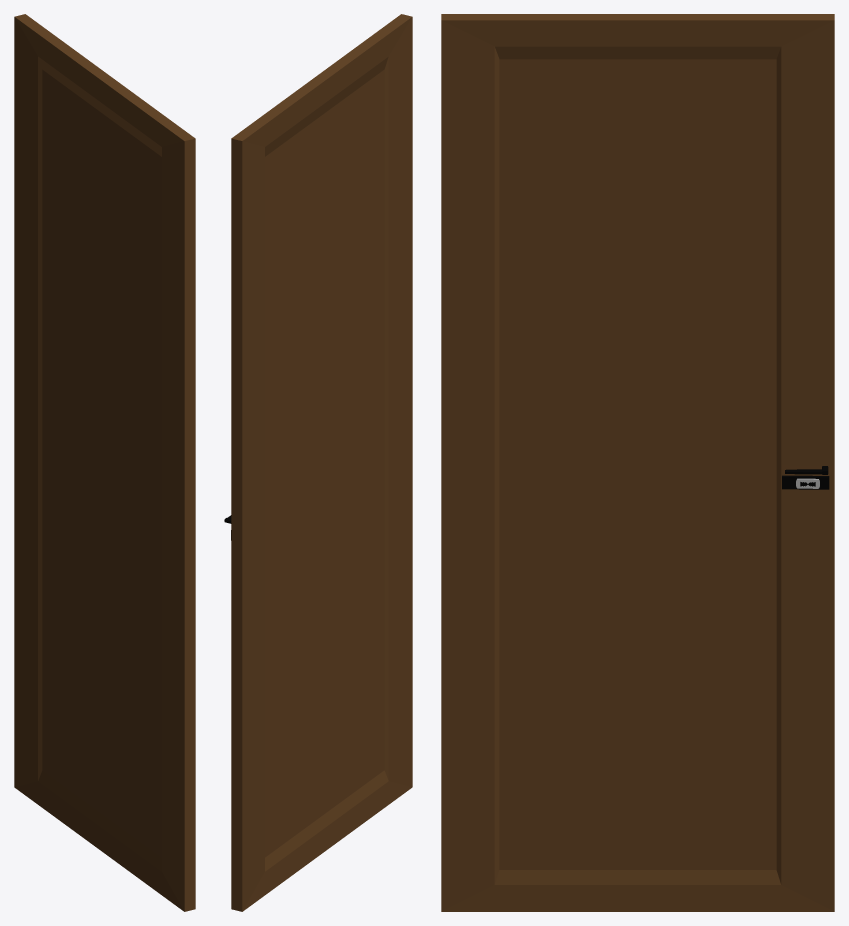
File: door.fbx
The picture shows the model from 3 angles, left to right: view 1: azimuth 30°, elevation 25°; view 2: azimuth 150°, elevation 25°; view 3: azimuth 270°, elevation 25°; orthographic projection. The views are drawn at different scales.
Visible parts, largest first — view 1: Cube.006; view 2: Cube.006; view 3: Cube.006.
Boxes of the visible parts, box(x1,y1,x2,y2) form: Cube.006: box(14, 14, 195, 911); Cube.006: box(224, 14, 412, 911); Cube.006: box(441, 14, 834, 911).
Size of the model in its own units: 5.63 by 200 by 80.
